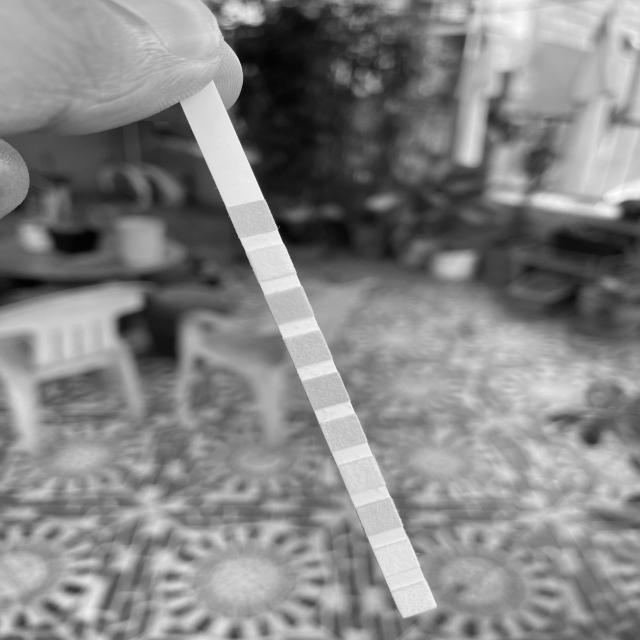Bilirubin: (253, 250, 288, 271)
Blood: (309, 380, 342, 400)
Glucose: (233, 207, 270, 226)
Ketone: (272, 294, 307, 314)
Leukocytes: (398, 590, 431, 609)
Nitrite: (381, 548, 413, 568)
Protein: (347, 464, 377, 488)
SpGravity: (290, 337, 324, 357)
Urobilinogen: (363, 507, 396, 526)
background: (0, 0, 640, 640)
pH: (328, 421, 358, 445)
strip: (182, 91, 437, 620)
